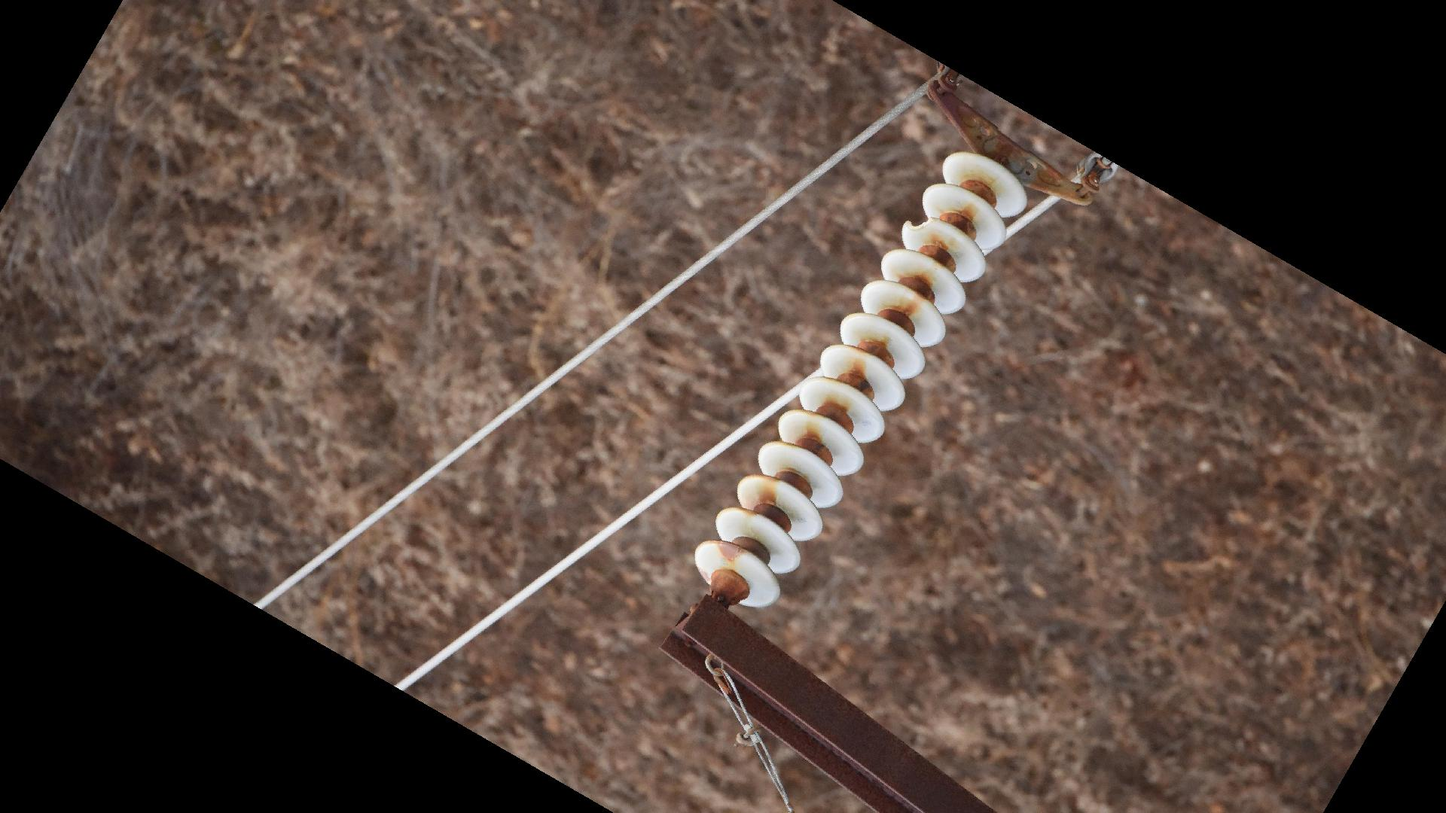insulator: (689, 148, 1038, 617)
insulator_breakage: (901, 214, 941, 234)
